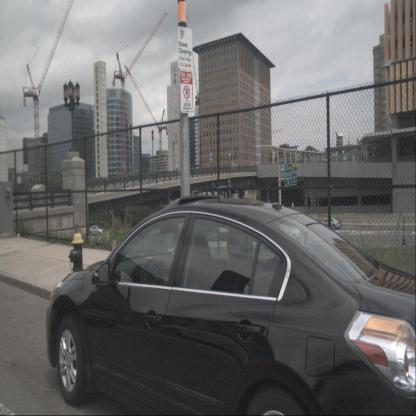vehicle-car: (44, 197, 414, 416), (319, 214, 342, 233)
